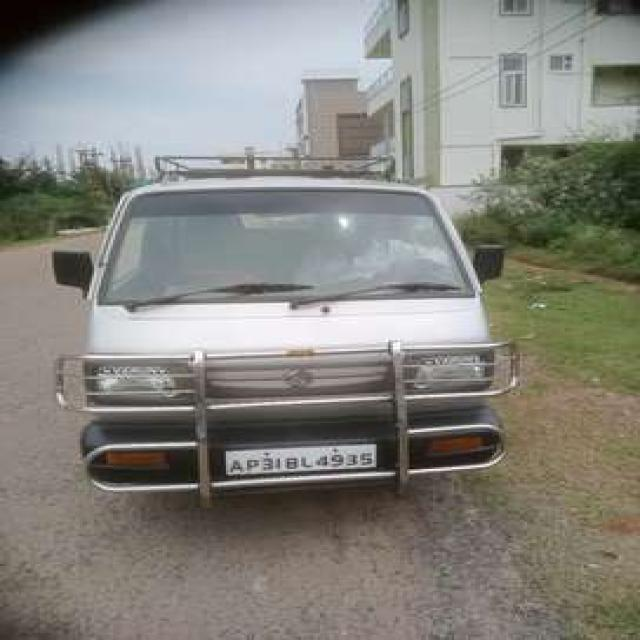licenseplate: (225, 436, 375, 478)
